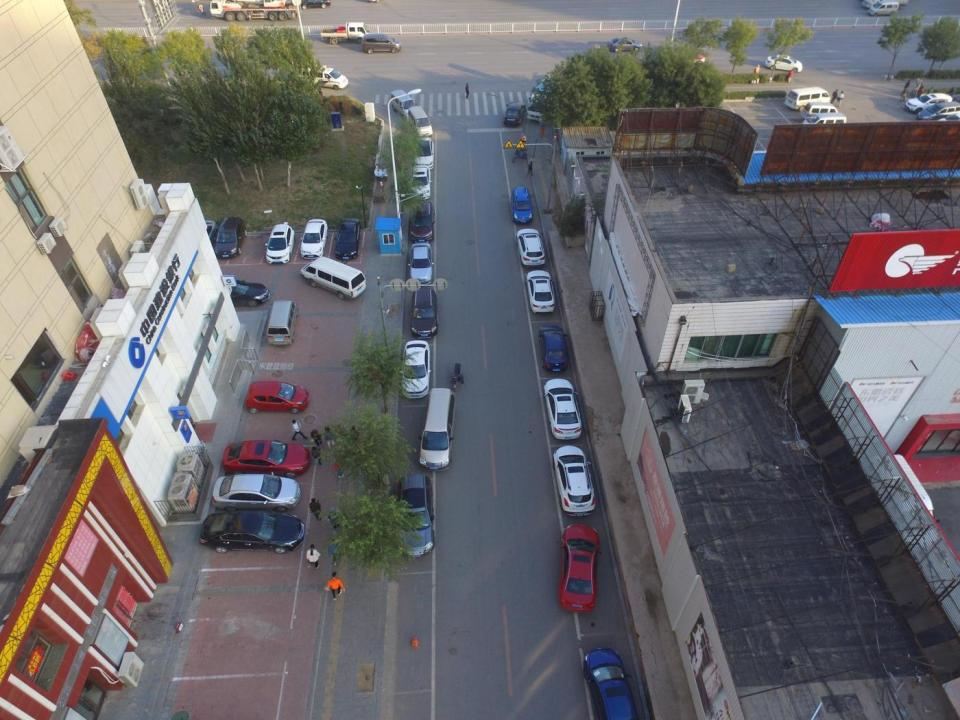car: (199, 510, 305, 554), (582, 647, 641, 720), (557, 522, 603, 614), (211, 472, 301, 514), (222, 439, 312, 479), (394, 473, 434, 559), (418, 387, 458, 472), (552, 444, 597, 517), (542, 377, 583, 440), (244, 381, 310, 414), (526, 72, 566, 124), (399, 339, 431, 400), (408, 286, 439, 340), (215, 278, 270, 308), (538, 324, 569, 372), (214, 216, 247, 258), (264, 221, 296, 264), (525, 270, 556, 314), (299, 217, 328, 260), (515, 228, 546, 268), (334, 217, 362, 261), (305, 63, 349, 91), (407, 242, 435, 286), (409, 200, 436, 243), (905, 92, 953, 114), (195, 220, 220, 258), (510, 186, 534, 224), (916, 100, 959, 121), (917, 101, 960, 121), (409, 164, 432, 200), (361, 33, 402, 53), (764, 52, 803, 72), (414, 136, 434, 170), (503, 101, 526, 127), (606, 36, 642, 52), (672, 50, 706, 66)
truck: (320, 22, 374, 46)
van: (299, 255, 367, 301), (265, 299, 299, 345), (783, 86, 831, 111), (798, 112, 847, 131), (407, 105, 434, 138), (390, 88, 418, 118), (800, 101, 839, 120), (867, 0, 900, 17)
